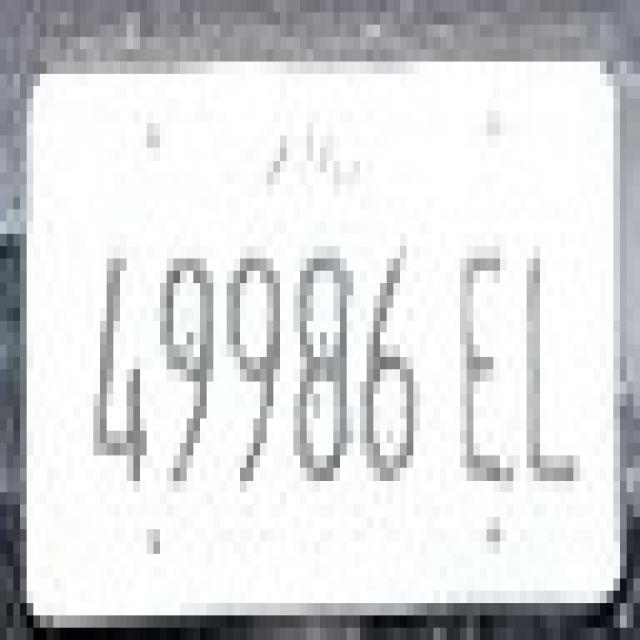4: (73, 222, 147, 480)
6: (346, 209, 426, 480)
8: (274, 222, 354, 480)
9: (207, 222, 280, 480), (140, 222, 213, 468)
E: (434, 222, 514, 480)
L: (500, 222, 580, 468)
